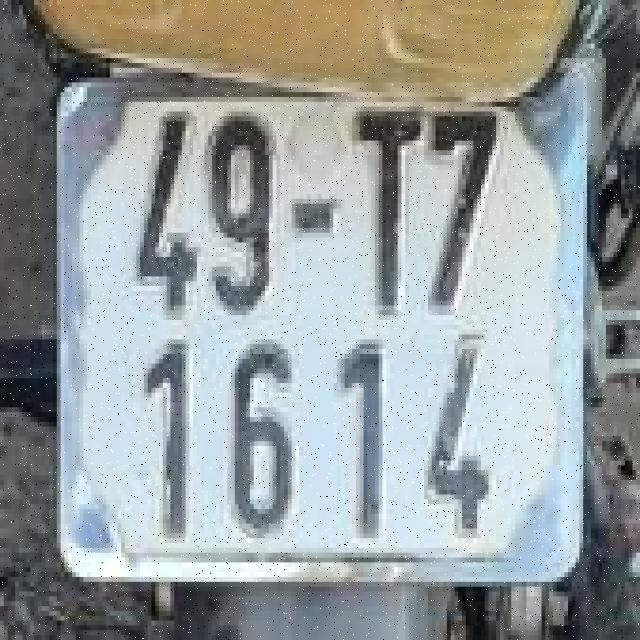1: (332, 334, 384, 548), (144, 337, 193, 550)
4: (422, 320, 506, 562), (123, 97, 199, 320)
6: (220, 325, 306, 548)
7: (426, 95, 506, 322)
9: (203, 105, 282, 322)
T: (348, 95, 421, 332)
